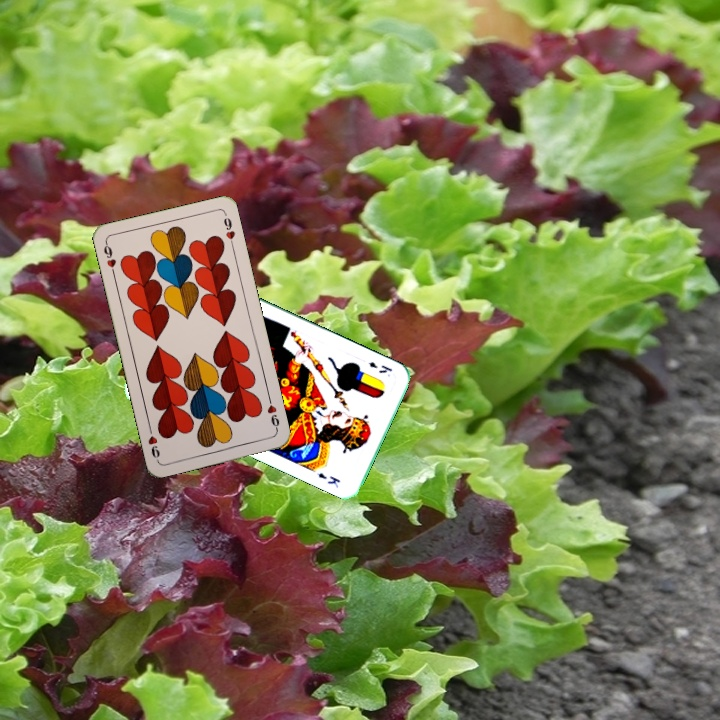EK: (365, 357, 395, 376)
H9: (99, 238, 119, 278), (263, 394, 282, 434)
